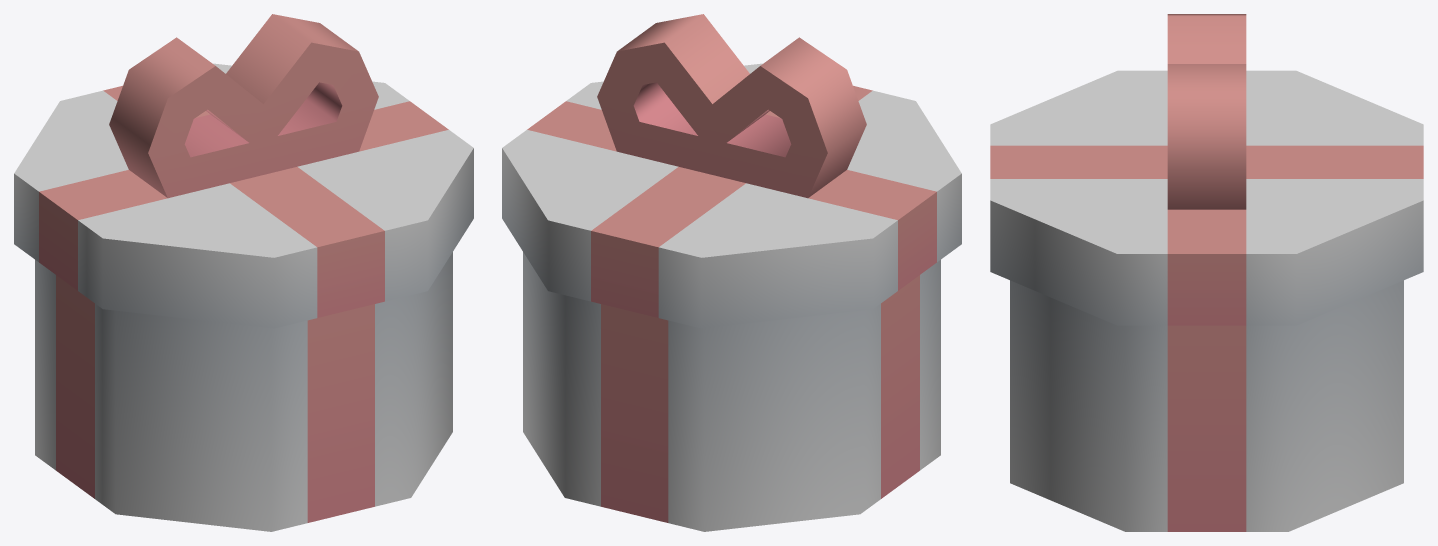
Rendered from present-a.glb.
3 renders of one model, left to right at view 1: azimuth 30°, elevation 25°; view 2: azimuth 150°, elevation 25°; view 3: azimuth 270°, elevation 25°, orthographic.
Visible parts, largest first — view 1: present-a; view 2: present-a; view 3: present-a.
Part boxes in pixels (<box>): present-a: <box>14,14,473,531</box>; present-a: <box>502,14,961,531</box>; present-a: <box>990,14,1423,531</box>.
Size of the model in its own units: 0.4117 by 0.428 by 0.4117.
